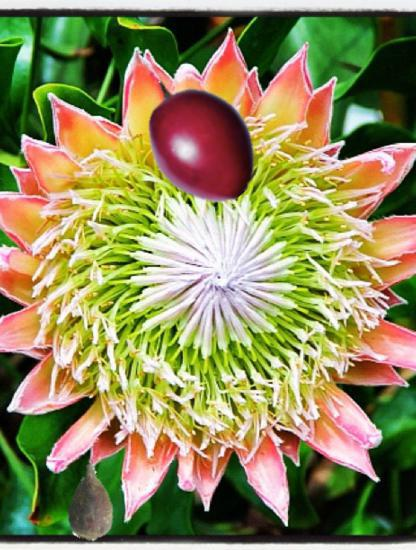Beetroot: (49, 462, 132, 545)
Tamarillo: (128, 71, 267, 210)
